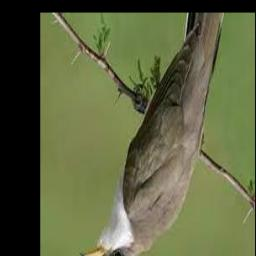Cuckoo: (81, 13, 225, 256)
